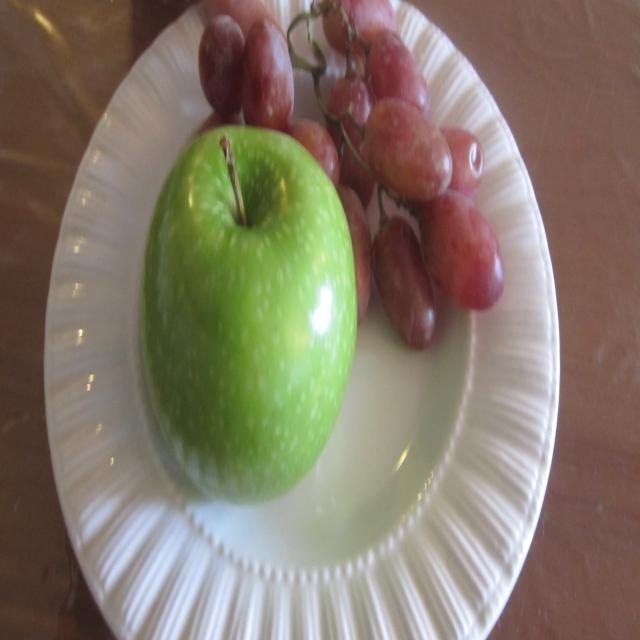Apple: (144, 127, 359, 522)
Grapes: (356, 3, 512, 361), (209, 2, 426, 122)
